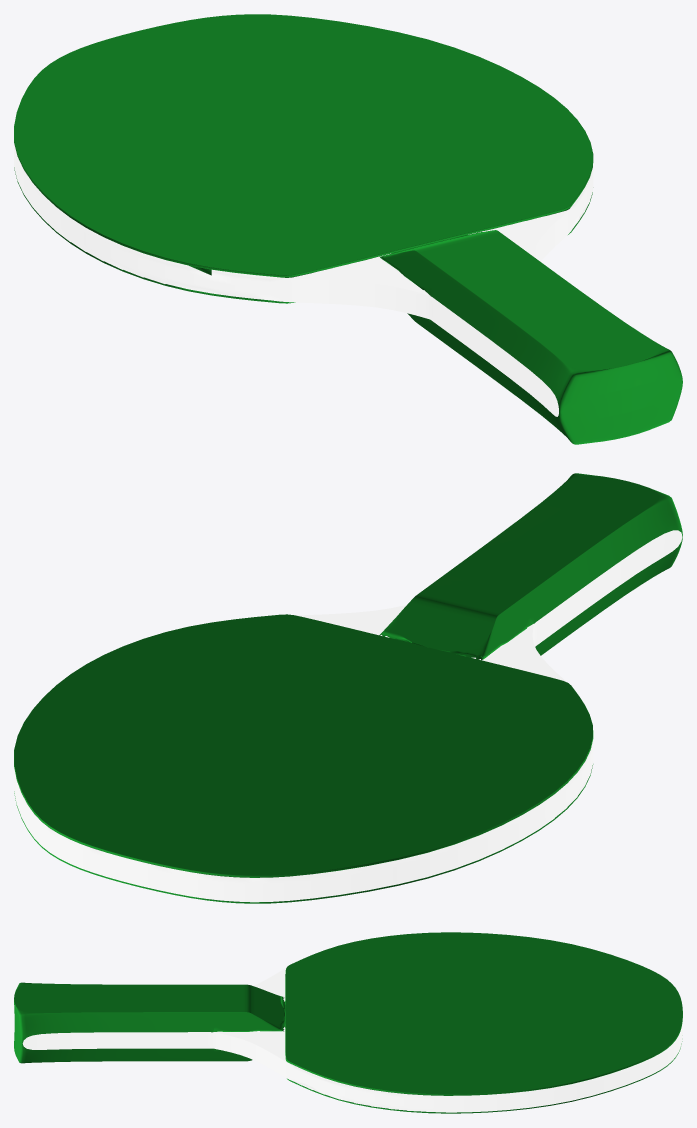
Rendered from Mauble.glb.
The picture shows the model from 3 angles, top to bottom: view 1: azimuth 30°, elevation 25°; view 2: azimuth 150°, elevation 25°; view 3: azimuth 270°, elevation 25°; orthographic projection. The views are drawn at different scales.
Visible parts, largest first — view 1: 10519_pingpong_paddle.028; view 2: 10519_pingpong_paddle.028; view 3: 10519_pingpong_paddle.028.
Part boxes in pixels (box(x1,y1,x2,y2)): 10519_pingpong_paddle.028: box(14, 14, 682, 444); 10519_pingpong_paddle.028: box(14, 473, 682, 903); 10519_pingpong_paddle.028: box(14, 932, 682, 1113).
Bounding box in the file's own units: 1.64 × 0.2318 × 2.86.
